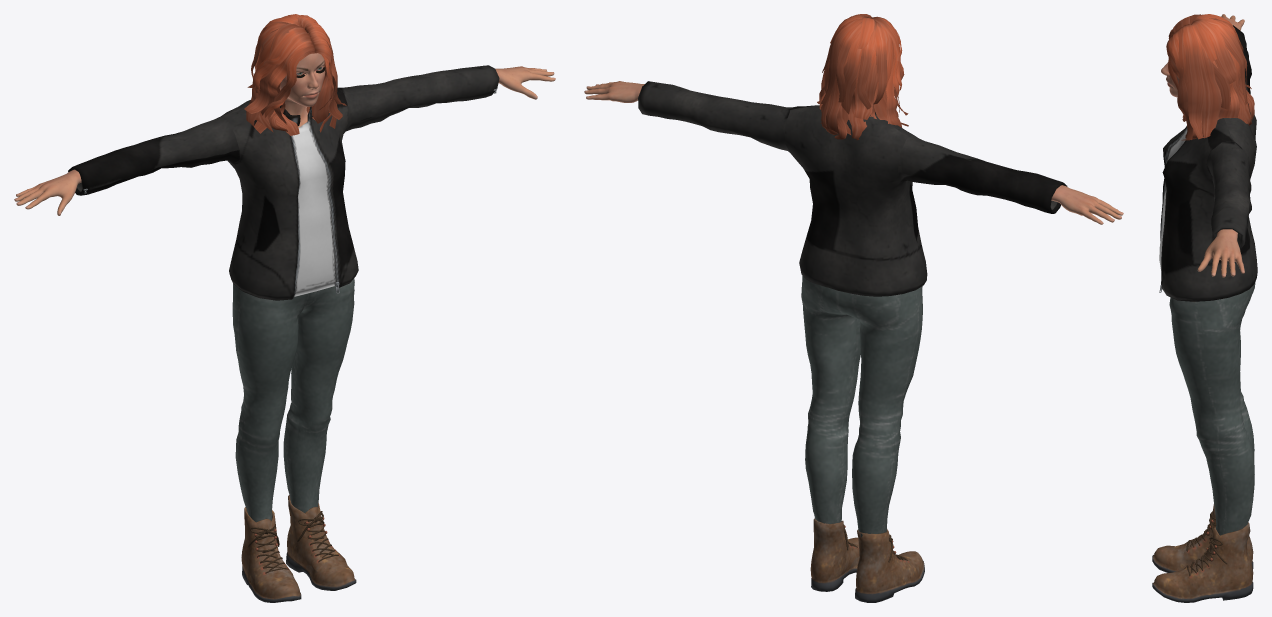
File: citizen.glb
The picture shows the model from 3 angles, left to right: view 1: azimuth 30°, elevation 25°; view 2: azimuth 150°, elevation 25°; view 3: azimuth 270°, elevation 25°; orthographic projection.
Parts seen in each view (by area): view 1: Object_3, Object_4, Object_2; view 2: Object_3, Object_4, Object_2; view 3: Object_3, Object_4, Object_2.
Boxes of the visible parts, left/top/right/bottom form: Object_3: left=232, top=14, right=356, bottom=602; Object_4: left=68, top=65, right=499, bottom=300; Object_2: left=14, top=53, right=555, bottom=215; Object_3: left=801, top=14, right=924, bottom=602; Object_4: left=638, top=81, right=1067, bottom=296; Object_2: left=584, top=81, right=1123, bottom=224; Object_3: left=1152, top=14, right=1255, bottom=602; Object_4: left=1159, top=25, right=1257, bottom=301; Object_2: left=1161, top=14, right=1244, bottom=277.
Size of the model in its own units: 179 by 180 by 30.57.
1 material, 1 textured.
